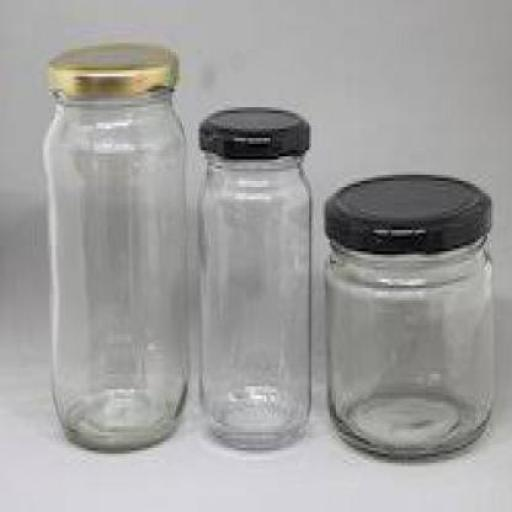glass: (43, 89, 188, 454), (322, 236, 492, 460), (194, 150, 312, 451)
metal: (322, 172, 489, 248), (46, 40, 176, 89), (196, 105, 307, 156)
